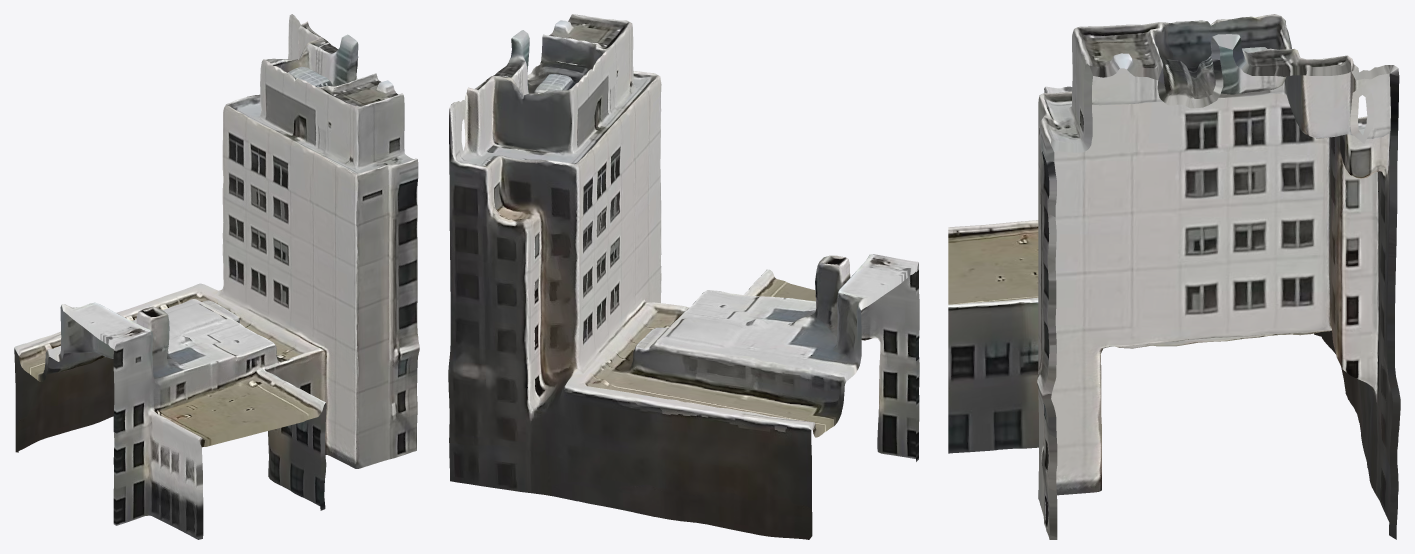
File: z20-167765-405235-h1-yup-uvflip-v3-world.glb
3 views of the same model, side by side, from view 1: azimuth 30°, elevation 25°; view 2: azimuth 150°, elevation 25°; view 3: azimuth 270°, elevation 25° (orthographic). The views are drawn at different scales.
Bounding box in the file's own units: 30.2 × 34.92 × 28.36.
Materials: 1 (1 with a texture image).
